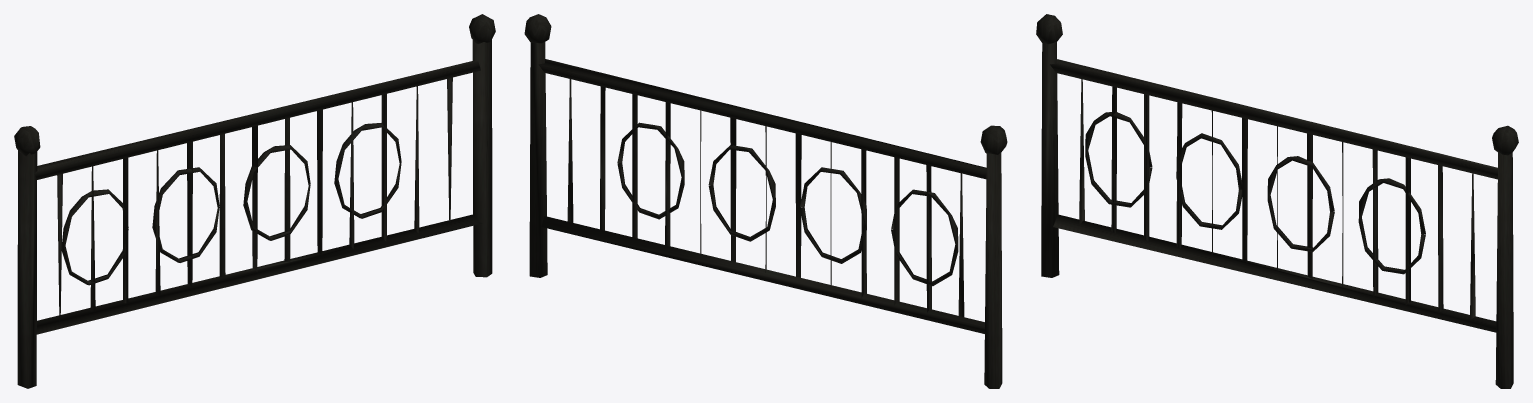
Rendered from hang_rao_ho_lod1.glb.
3 renders of one model, left to right at view 1: azimuth 30°, elevation 25°; view 2: azimuth 150°, elevation 25°; view 3: azimuth 330°, elevation 25°, orthographic.
Parts seen in each view (by area): view 1: hang_rao_ho.001; view 2: hang_rao_ho.001; view 3: hang_rao_ho.001.
Boxes of the visible parts, x1,y1,x2,y2 form: hang_rao_ho.001: (14, 14, 495, 388); hang_rao_ho.001: (524, 14, 1007, 388); hang_rao_ho.001: (1036, 14, 1518, 388).
Size of the model in its own units: 2.1 by 1.09 by 0.1059.
Materials: 1 (1 with a texture image).
